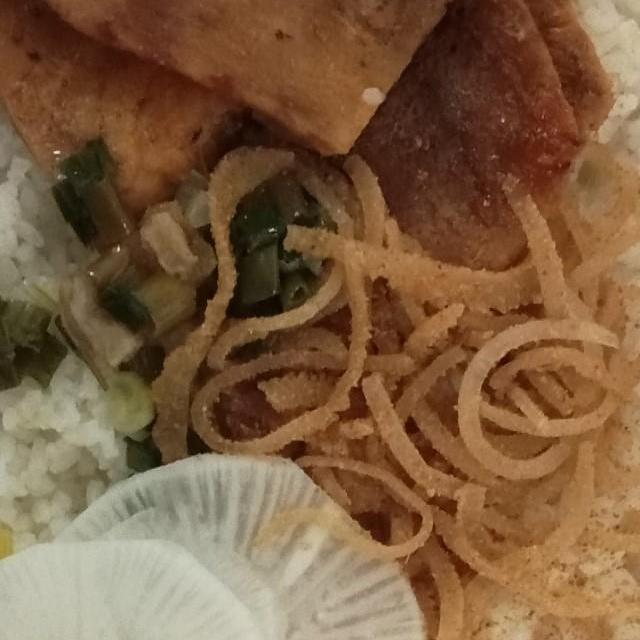bi: (136, 134, 640, 566), (334, 522, 575, 640)
com: (0, 93, 181, 565), (254, 477, 640, 640), (477, 0, 640, 219)
dua chua: (0, 440, 436, 640)
suon: (0, 0, 621, 278), (0, 0, 616, 161)
